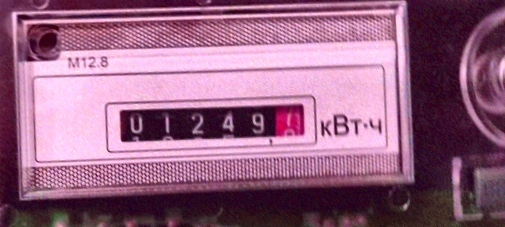0: (124, 107, 145, 135)
1: (156, 109, 173, 135)
2: (186, 109, 208, 137)
4: (218, 106, 238, 134)
7: (279, 103, 296, 128)
9: (247, 108, 267, 135)
screen: (94, 80, 332, 174)
